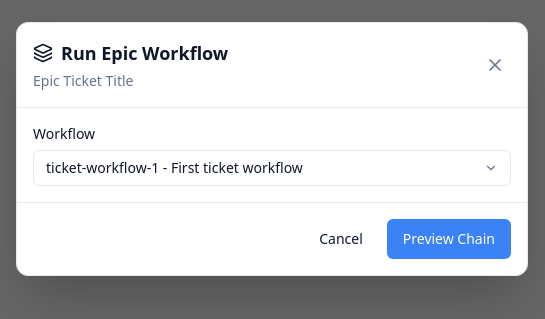
Test: RunEpicWorkflowDialog › edge cases › handles chain items without ticket titles
Click the button "Preview Chain". click: point(449, 239)
box: [387,219,511,259]
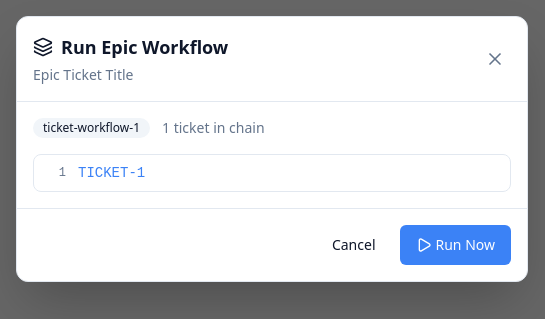
expect the text "TICKET-1" is shown: met, box [78,163,145,183]
